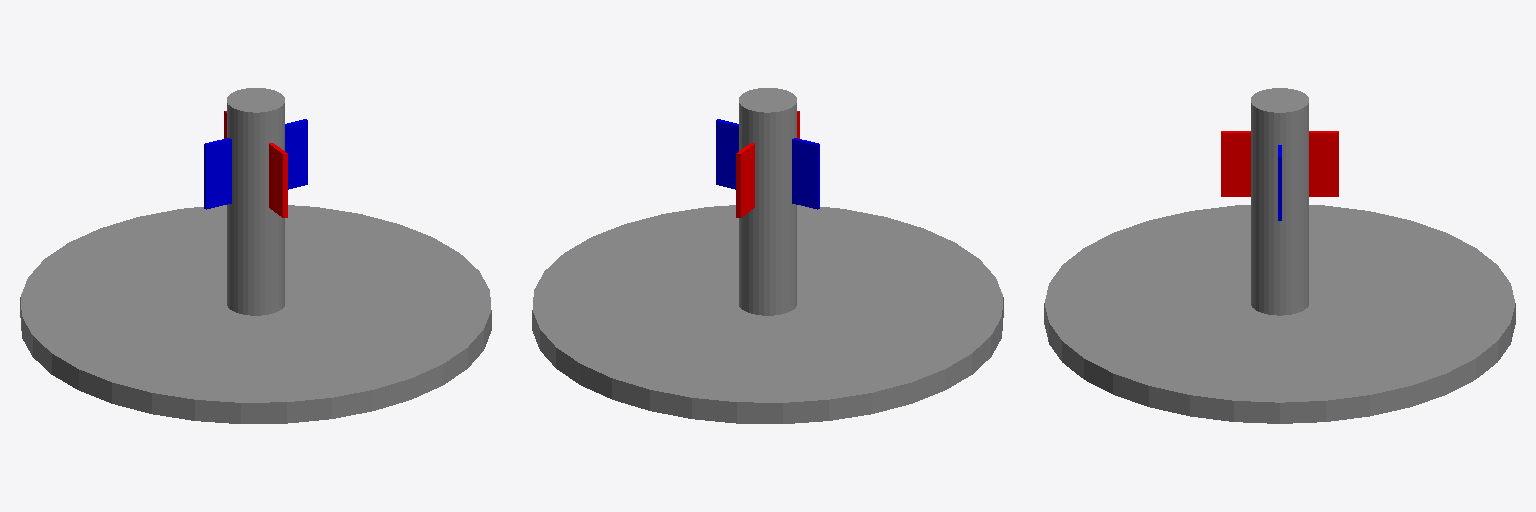
robot.urdf — screw_with_nut:
<?xml version="1.0"?>
<!-- Ported from dexscrew assets/screw/trinut/0003_stripe.urdf (unchanged geometry).
     The object stands upright on the ground: base disc on the floor, bolt pointing
     up, nut sleeve at the top. The hand floats above it (palm down). -->
<robot name="screw_with_nut">
  <!-- Base: anchor disc -->
  <link name="base">
    <visual>
      <origin xyz="0 0 0" />
      <geometry>
        <cylinder radius="0.1" length="0.01" />
      </geometry>
      <material name="base_material">
        <color rgba="0.6 0.6 0.6 1" />
      </material>
    </visual>
    <collision>
      <origin xyz="0 0 0" />
      <geometry>
        <cylinder radius="0.1" length="0.01" />
      </geometry>
    </collision>
    <inertial>
      <mass value="10.0" />
      <origin xyz="0 0 0" />
      <inertia ixx="0.02508" ixy="0.0" ixz="0.0" iyy="0.02508" iyz="0.0" izz="0.05" />
    </inertial>
  </link>

  <!-- Bolt rigidly attached to base -->
  <link name="bolt">
    <visual>
      <origin xyz="0 0 0.05" />
      <geometry>
        <cylinder radius="0.0125" length="0.1" />
      </geometry>
      <material name="bolt_material">
        <color rgba="0.6 0.6 0.6 1" />
      </material>
    </visual>
    <collision>
      <origin xyz="0 0 0.05" />
      <geometry>
        <cylinder radius="0.0125" length="0.1" />
      </geometry>
    </collision>
    <inertial>
      <mass value="0.05" />
      <origin xyz="0 0 0.05" />
      <inertia ixx="0.0000420" ixy="0.0" ixz="0.0" iyy="0.0000420" iyz="0.0" izz="0.000000625" />
    </inertial>
  </link>

  <!-- Nut: triangular prism sleeve that rotates around the bolt -->
  <link name="nut">
    <visual>
      <origin xyz="0 0 -0.08"/>
      <geometry>
        <mesh filename="../meshes/tri.stl" scale="1.0 1.0 6.5"/>
      </geometry>
      <material name="nut_material">
        <color rgba="0.8 0.4 0.2 1"/>
      </material>
    </visual>
    <collision>
      <origin xyz="0 0 -0.08"/>
      <geometry>
        <mesh filename="../meshes/tri.stl" scale="1.0 1.0 6.5"/>
      </geometry>
    </collision>
    <inertial>
      <mass value="0.05"/>
      <origin xyz="0 0 0"/>
      <inertia ixx="0.000005157" iyy="0.000005157" izz="0.000008438" ixy="0" ixz="0" iyz="0"/>
    </inertial>
    <!-- Red stripe on nut -->
    <visual>
      <origin xyz="0 0 -0.03" rpy="0 0 0"/>
      <geometry>
        <box size="0.002 0.05 0.03"/>
      </geometry>
      <material name="stripe_red">
        <color rgba="1 0 0 1"/>
      </material>
    </visual>
    <!-- Blue stripe on nut -->
    <visual>
      <origin xyz="0 0 -0.03" rpy="0 0 1.5708"/>
      <geometry>
        <box size="0.002 0.05 0.03"/>
      </geometry>
      <material name="stripe_blue">
        <color rgba="0 0 1 1"/>
      </material>
    </visual>
  </link>

  <!-- Fixed joint -->
  <joint name="base_screw_fixed" type="fixed">
    <parent link="base" />
    <child  link="bolt" />
    <origin xyz="0 0 0" rpy="0 0 0" />
  </joint>

  <!-- Revolute joint -->
  <joint name="nut_joint" type="revolute">
    <parent link="bolt" />
    <child  link="nut" />
    <origin xyz="0 0 0.1" rpy="0 0 0"/>
    <axis  xyz="0 0 -1" />
    <dynamics friction="0.2"/>
    <limit lower="0.0" upper="628.3185" effort="2.0" velocity="6.2832" /> <!-- 100 rotations -->
  </joint>
</robot>

--- Facts derived from the render (not from the file) ---
The picture shows the robot from 3 angles, left to right: view 1: azimuth 30°, elevation 25°; view 2: azimuth 150°, elevation 25°; view 3: azimuth 270°, elevation 25°; orthographic projection.
Model screw_with_nut with 3 links and 2 joints (1 revolute, 1 fixed), rooted at base, posed every joint at zero.
Visible links, largest first — view 1: base, bolt, nut; view 2: base, bolt, nut; view 3: base, bolt, nut.
Link boxes in pixels (x1=…): base: x1=20, y1=205, x2=491, y2=423; bolt: x1=227, y1=88, x2=284, y2=315; nut: x1=204, y1=111, x2=307, y2=217; base: x1=532, y1=205, x2=1003, y2=423; bolt: x1=739, y1=88, x2=796, y2=315; nut: x1=716, y1=111, x2=819, y2=217; base: x1=1044, y1=205, x2=1515, y2=423; bolt: x1=1251, y1=88, x2=1308, y2=315; nut: x1=1221, y1=131, x2=1338, y2=220.
Size in the robot's own frame: 0.2 by 0.2 by 0.105 metres.
Meshes: 1 distinct files referenced, 0 mesh visuals loaded (none loaded); not drawn: 1 (reference not matched to a file when rendering).
